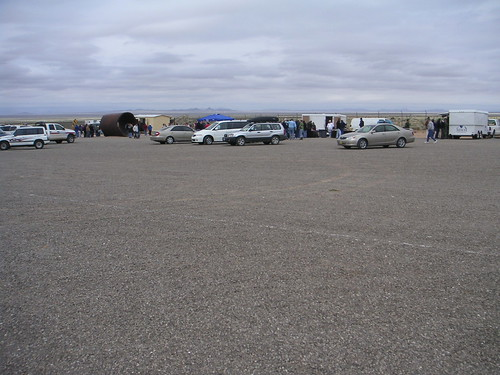car: (332, 120, 415, 151), (226, 119, 290, 147), (1, 127, 49, 152), (192, 119, 242, 142), (152, 123, 192, 143)
sky: (7, 1, 500, 112)
